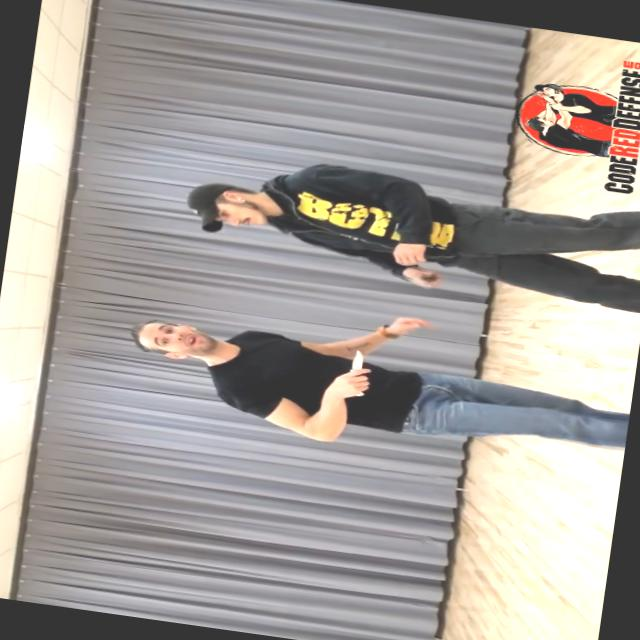knife: (334, 344, 376, 400)
